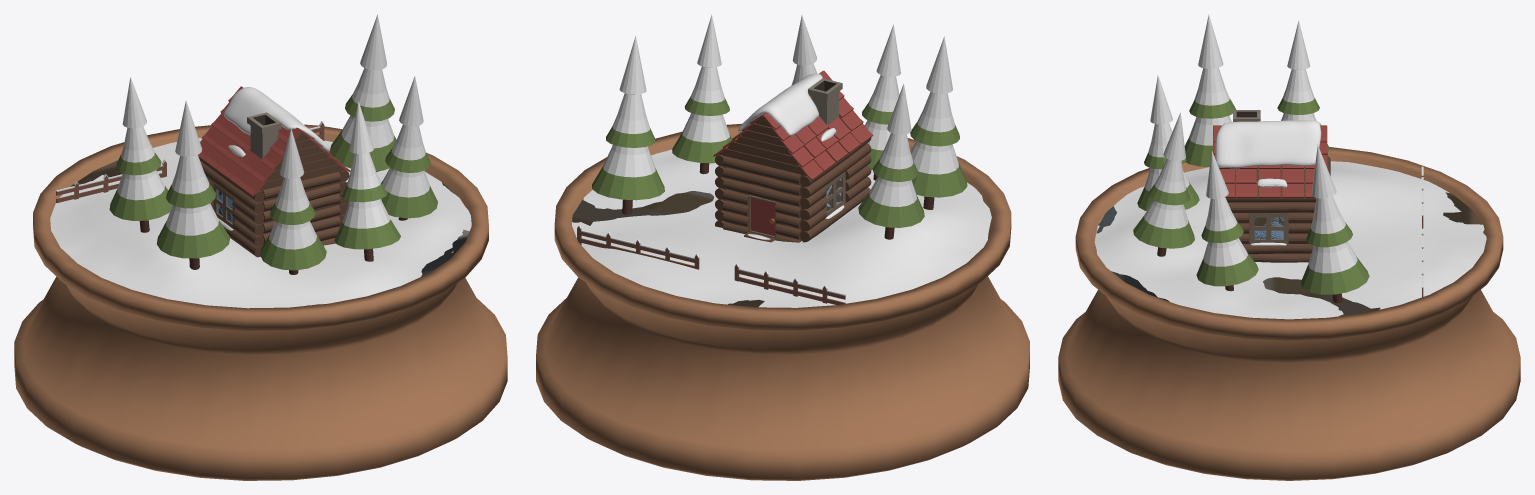
The model's file is snowglobe_rootss254.fbx.
The picture shows the model from 3 angles, left to right: view 1: azimuth 30°, elevation 25°; view 2: azimuth 150°, elevation 25°; view 3: azimuth 270°, elevation 25°; orthographic projection. The views are drawn at different scales.
Visible parts, largest first — view 1: snowglobe_sh_14, snowglobe_sh_182, snowglobe_sh_17, snowglobe_sh_11, snowglobe_sh_185, snowglobe_sh_10, snowglobe_sh_183, snowglobe_sh_35, snowglobe_sh_21, snowglobe_sh_30, snowglobe_sh_175, snowglobe_sh_46 (+22 smaller); view 2: snowglobe_sh_11, snowglobe_sh_15, snowglobe_sh_183, snowglobe_sh_13, snowglobe_sh_14, snowglobe_sh_182, snowglobe_sh_12, snowglobe_sh_185, snowglobe_sh_16, snowglobe_sh_41, snowglobe_sh_17, snowglobe_sh_21 (+28 smaller); view 3: snowglobe_sh_17, snowglobe_sh_183, snowglobe_sh_13, snowglobe_sh_185, snowglobe_sh_16, snowglobe_sh_175, snowglobe_sh_14, snowglobe_sh_182, snowglobe_sh_15, snowglobe_sh_41, snowglobe_sh_35, snowglobe_sh_10 (+25 smaller).
Part boxes in pixels (x1=…): snowglobe_sh_14: x1=48, y1=240, x2=437, y2=480; snowglobe_sh_182: x1=59, y1=212, x2=386, y2=308; snowglobe_sh_17: x1=401, y1=153, x2=507, y2=448; snowglobe_sh_11: x1=14, y1=186, x2=81, y2=446; snowglobe_sh_185: x1=329, y1=166, x2=471, y2=277; snowglobe_sh_10: x1=322, y1=252, x2=473, y2=315; snowglobe_sh_183: x1=55, y1=137, x2=202, y2=234; snowglobe_sh_35: x1=335, y1=199, x2=400, y2=249; snowglobe_sh_21: x1=109, y1=170, x2=172, y2=220; snowglobe_sh_30: x1=267, y1=221, x2=326, y2=269; snowglobe_sh_175: x1=223, y1=87, x2=330, y2=151; snowglobe_sh_46: x1=157, y1=208, x2=230, y2=258; snowglobe_sh_11: x1=719, y1=279, x2=1018, y2=480; snowglobe_sh_15: x1=568, y1=245, x2=852, y2=406; snowglobe_sh_183: x1=587, y1=229, x2=901, y2=307; snowglobe_sh_13: x1=536, y1=332, x2=698, y2=445; snowglobe_sh_14: x1=910, y1=149, x2=1029, y2=404; snowglobe_sh_182: x1=808, y1=170, x2=991, y2=290; snowglobe_sh_12: x1=603, y1=385, x2=758, y2=477; snowglobe_sh_185: x1=572, y1=138, x2=732, y2=231; snowglobe_sh_16: x1=552, y1=222, x2=626, y2=334; snowglobe_sh_41: x1=592, y1=146, x2=664, y2=200; snowglobe_sh_17: x1=537, y1=123, x2=742, y2=344; snowglobe_sh_21: x1=858, y1=177, x2=924, y2=227; snowglobe_sh_17: x1=1068, y1=284, x2=1402, y2=480; snowglobe_sh_183: x1=1333, y1=168, x2=1486, y2=293; snowglobe_sh_13: x1=1386, y1=304, x2=1516, y2=470; snowglobe_sh_185: x1=1115, y1=249, x2=1391, y2=319; snowglobe_sh_16: x1=1388, y1=292, x2=1464, y2=423; snowglobe_sh_175: x1=1215, y1=120, x2=1321, y2=168; snowglobe_sh_14: x1=1058, y1=150, x2=1344, y2=407; snowglobe_sh_182: x1=1094, y1=161, x2=1361, y2=256; snowglobe_sh_15: x1=1417, y1=172, x2=1503, y2=321; snowglobe_sh_41: x1=1301, y1=246, x2=1369, y2=294; snowglobe_sh_35: x1=1133, y1=200, x2=1192, y2=248; snowglobe_sh_10: x1=1075, y1=213, x2=1127, y2=292.
Size of the model in its own units: 1864 by 1419 by 1864.
Materials: 2 (1 with a texture image).
